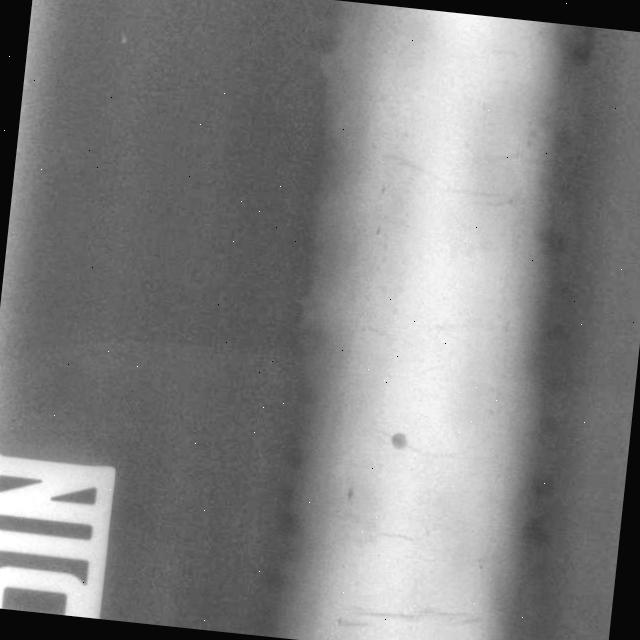Crack: (336, 277, 527, 391), (362, 130, 530, 230), (340, 396, 510, 489), (322, 582, 490, 640), (334, 498, 448, 567)
Pore: (372, 428, 416, 458)
